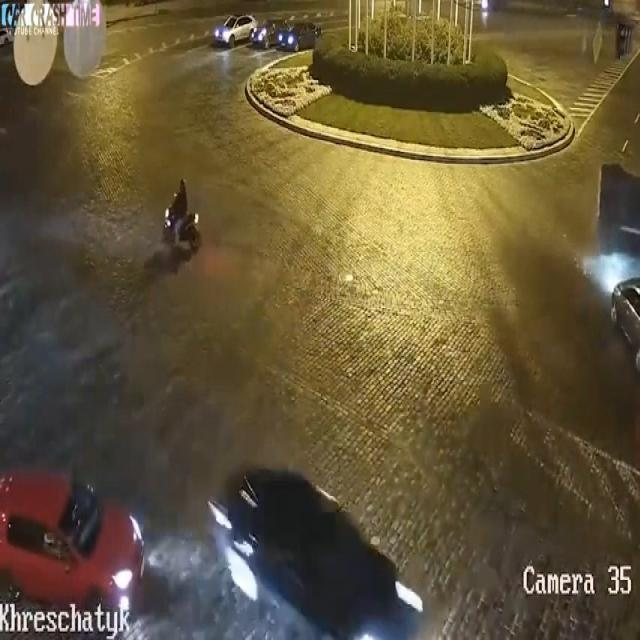Accident: (601, 119, 640, 408)
